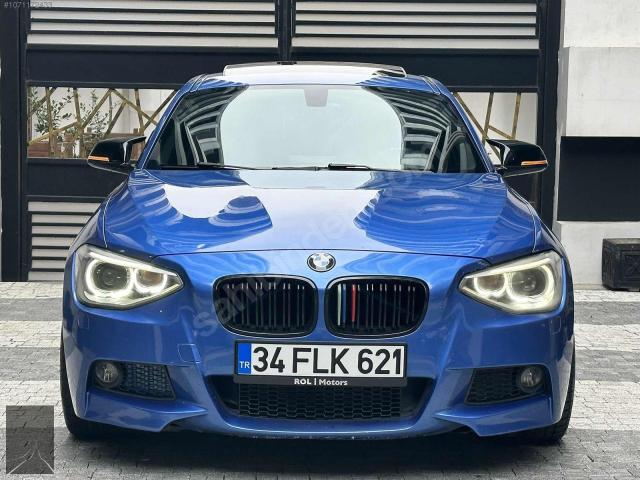plaka: (236, 342, 406, 379)
